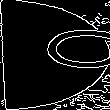O_W: (4, 33, 106, 77)
